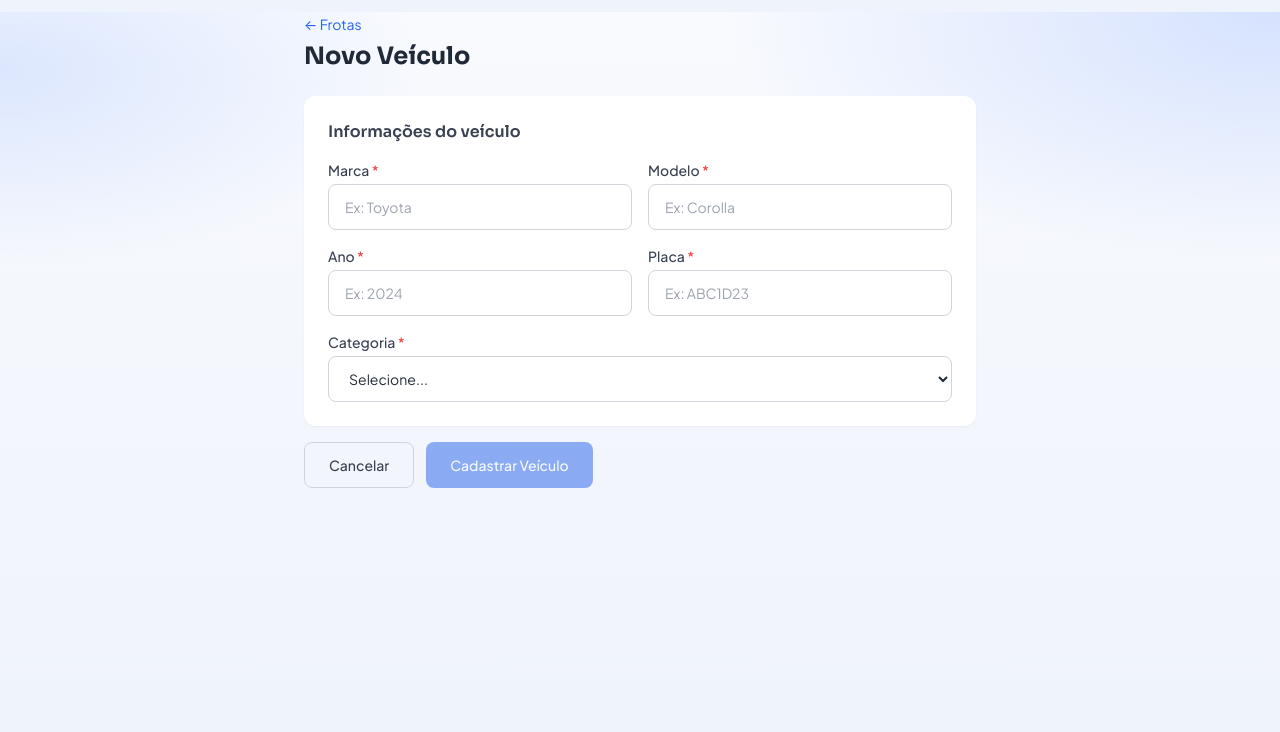
it: FleetCreationPage › shows submit error on API failure
Type "Toyota" into the field labelled "Marca" at (480, 207), box [328,184,632,230]
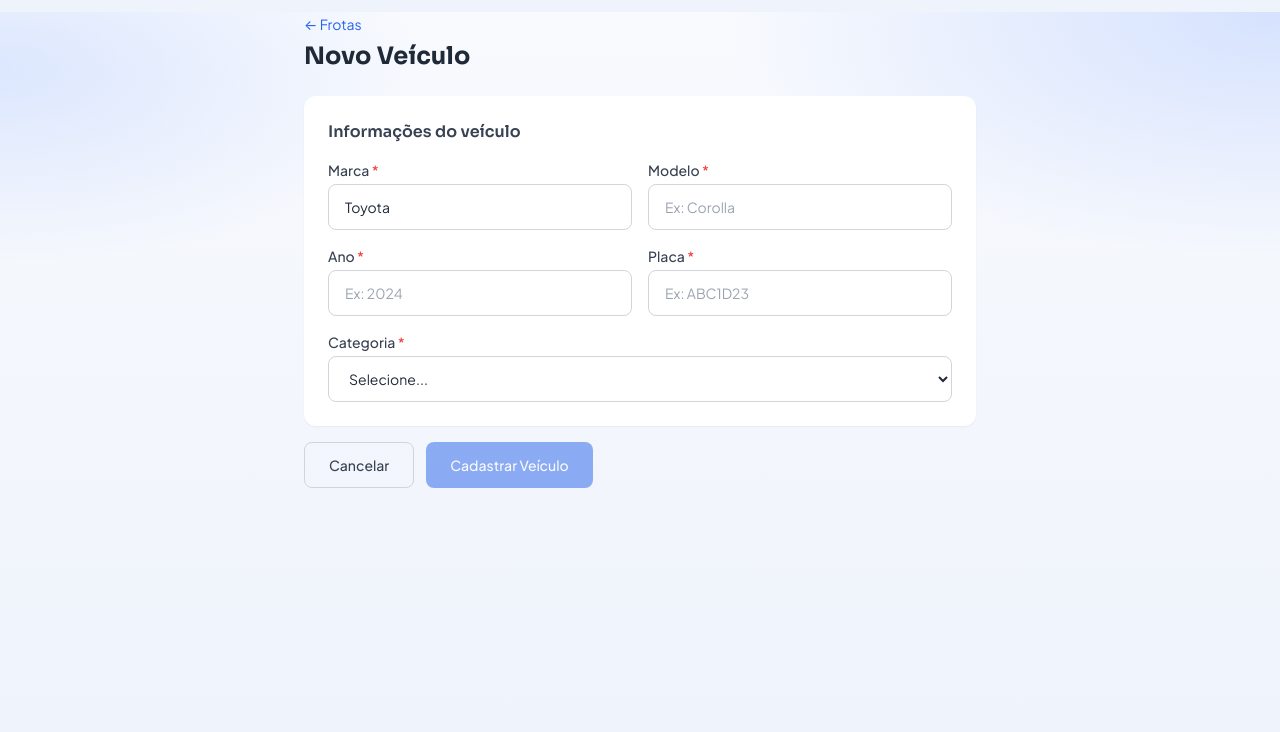
Type "Corolla" into the field labelled "Modelo" at (800, 207), box [648,184,952,230]
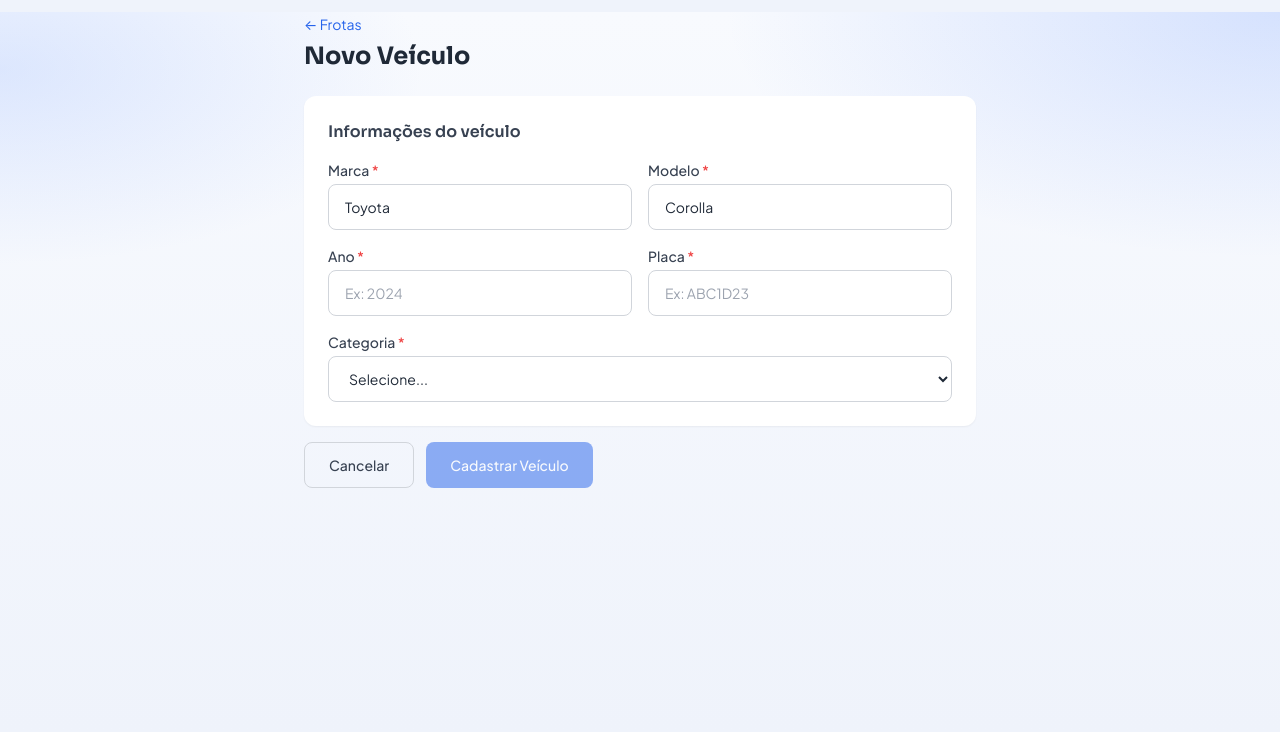
Type "2024" into the field labelled "Ano" at (480, 293), box [328,270,632,316]
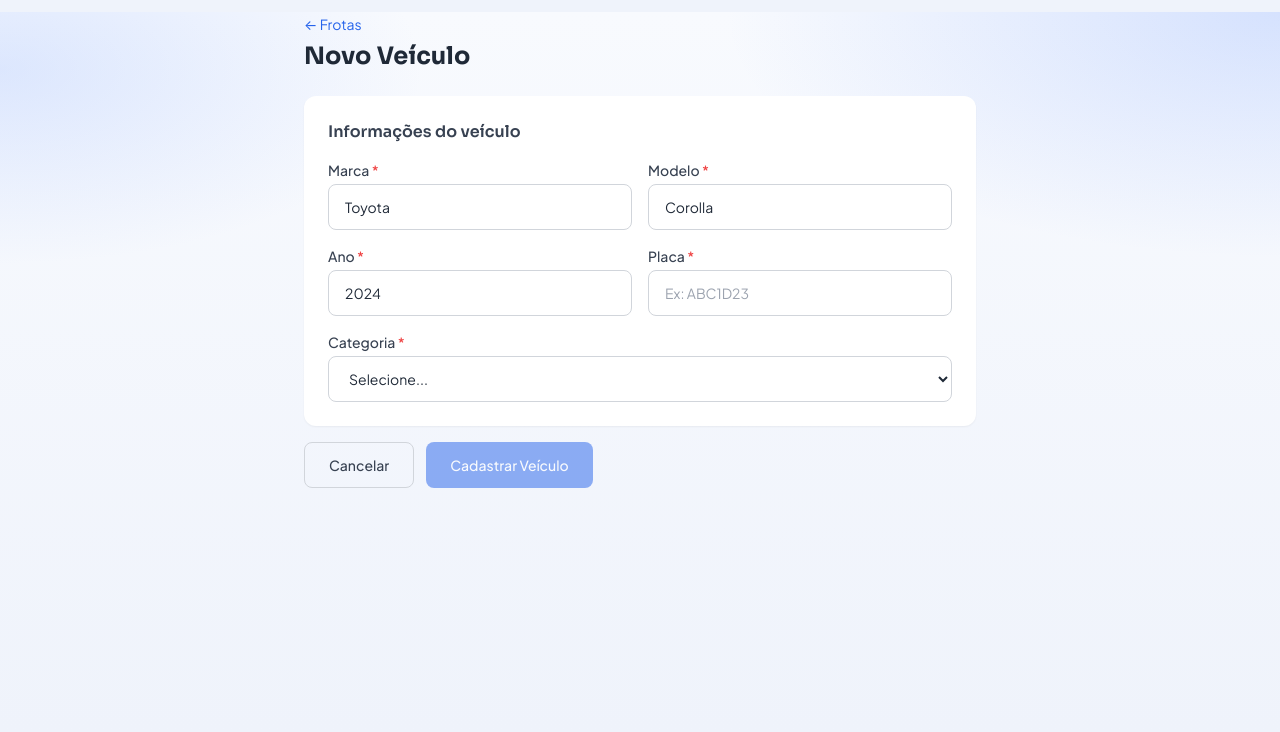
Type "ABC1D23" into the field labelled "Placa" at (800, 293), box [648,270,952,316]
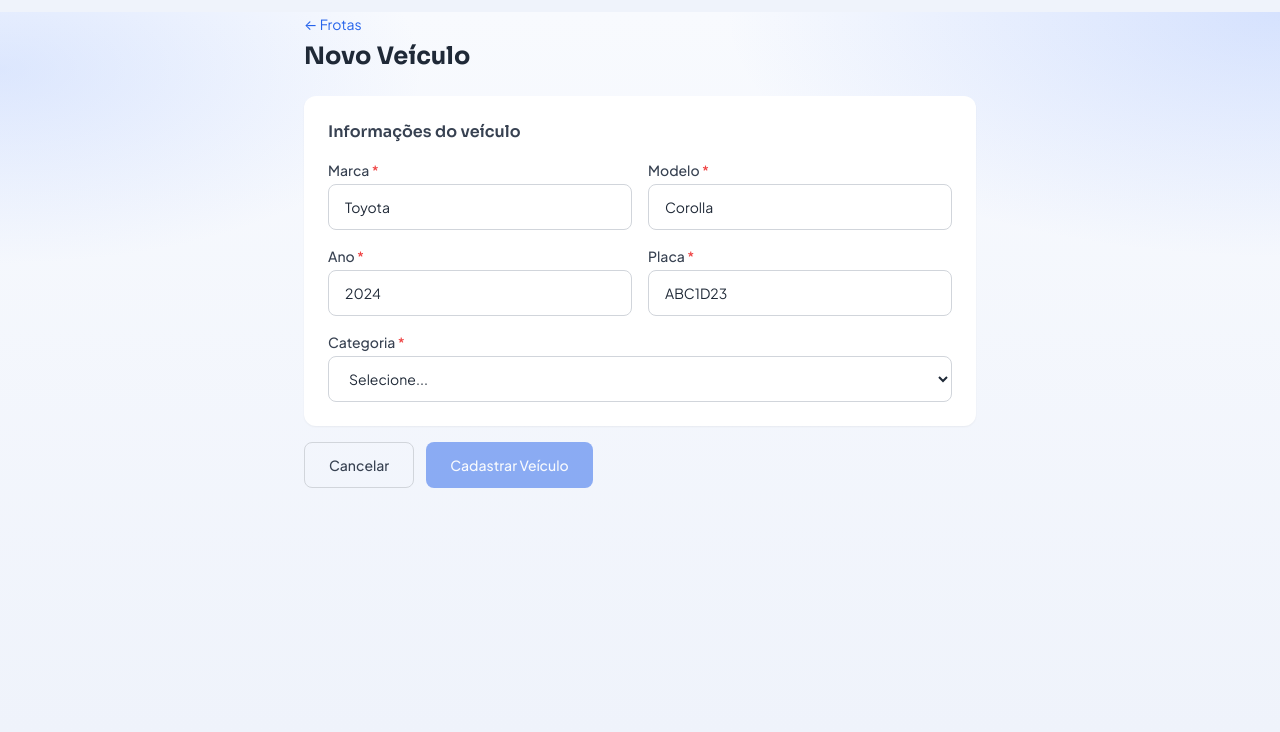
Select "Sedan" in the dropdown labelled "Categoria" at (640, 379), box [328,356,952,402]
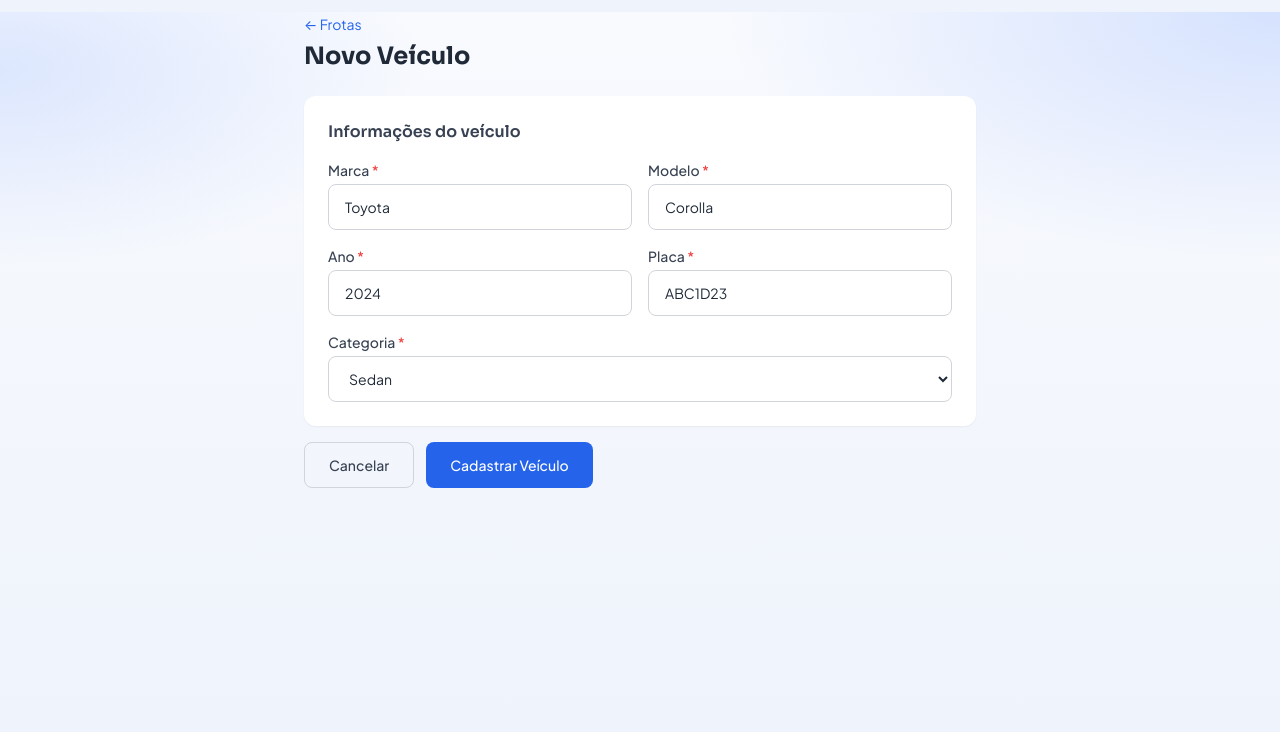
Click the button "Cadastrar Veículo" at (510, 465), box [426,442,593,488]
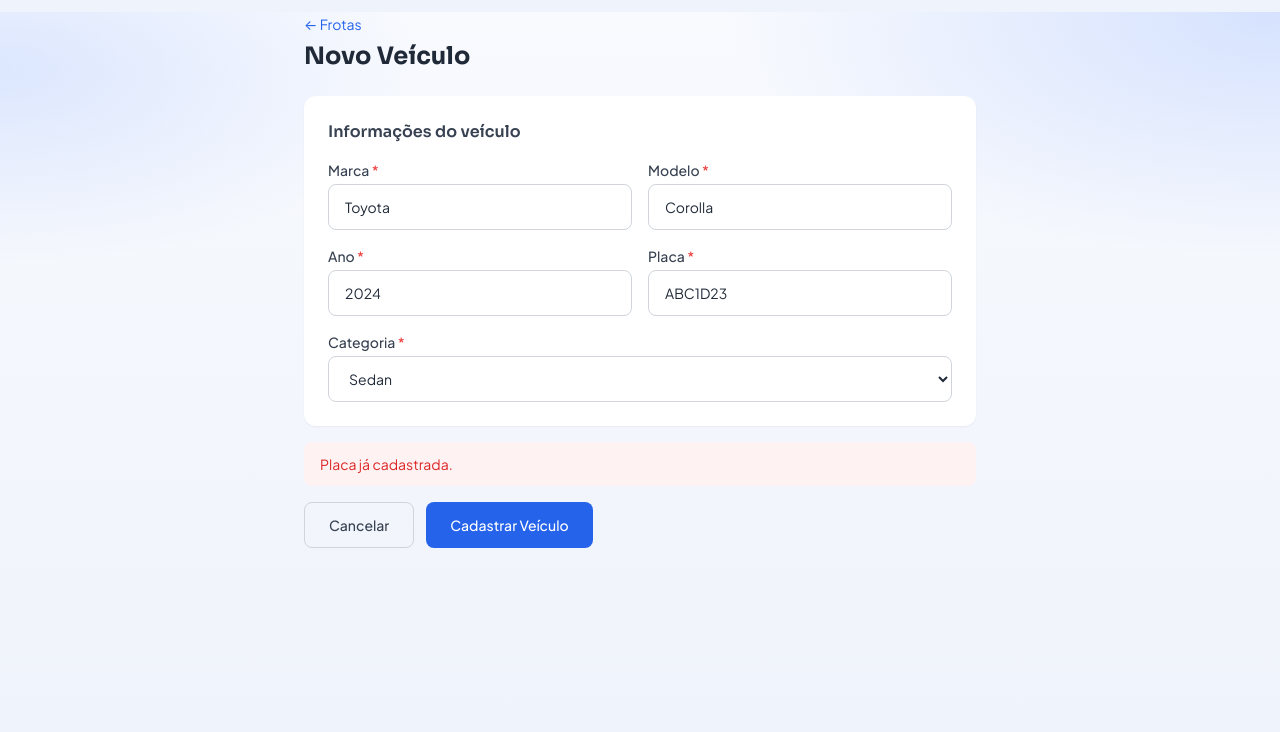
Expected: the text "Placa já cadastrada." is shown, [304,442,976,486]
